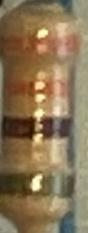Brown: (2, 116, 70, 139)
Orange: (1, 35, 78, 57), (4, 78, 70, 99)
Side-Gold: (0, 174, 74, 198)
